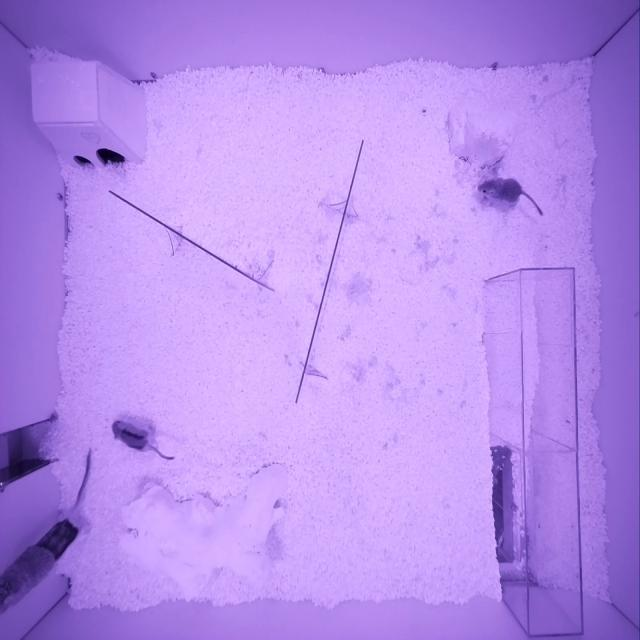adult_back: (0, 505, 89, 613)
pup_fluffy: (477, 178, 522, 206)
pup_v_stripe: (112, 420, 155, 453)
